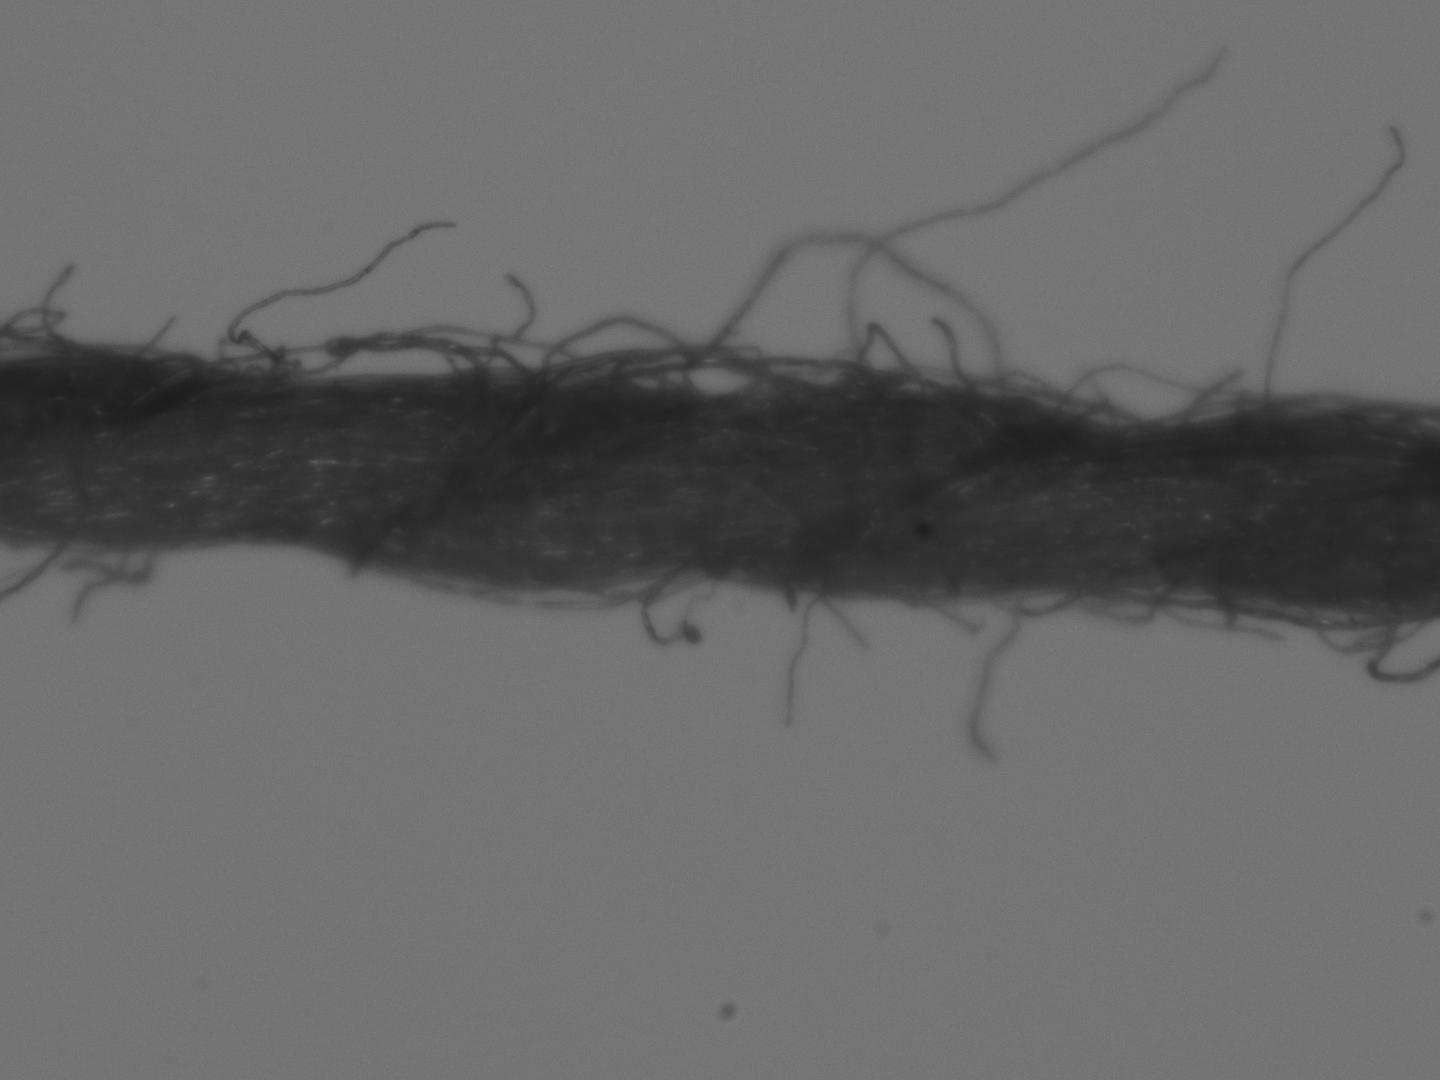loop_fiber: (533, 225, 1023, 410), (1089, 587, 1439, 687), (187, 321, 576, 381), (1053, 353, 1248, 431), (0, 535, 179, 599), (633, 560, 723, 653)
protruding_fiber: (832, 42, 1231, 380), (1256, 118, 1407, 411), (201, 217, 466, 378), (965, 589, 1026, 761), (475, 267, 540, 378), (779, 589, 827, 732), (33, 255, 83, 357), (111, 303, 183, 356)
